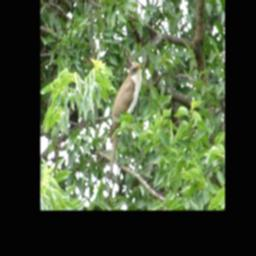Cuckoo: (107, 58, 148, 185)
